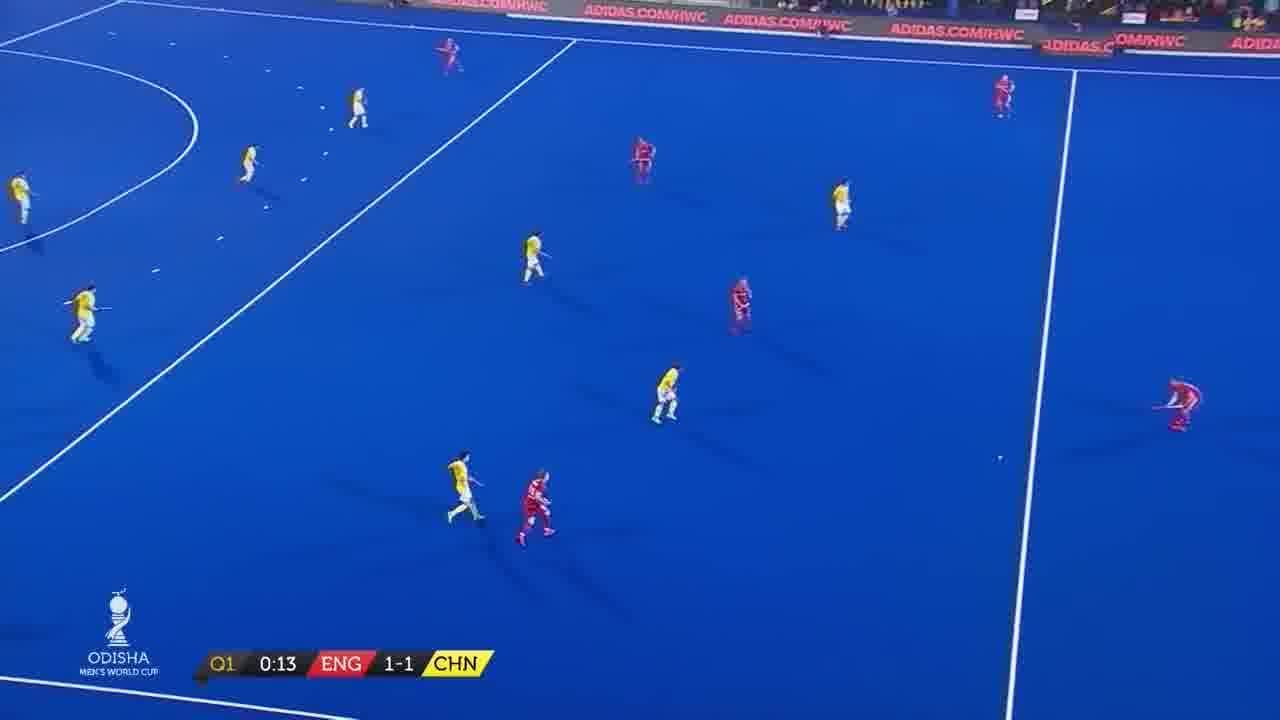ball: (986, 444, 1016, 472)
